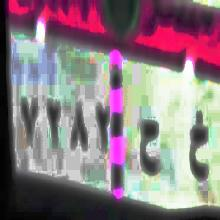2: (44, 88, 64, 163), (92, 104, 113, 158)
7: (20, 90, 39, 150)
7aa: (135, 108, 162, 189)
8: (68, 98, 90, 162)
khaa: (186, 107, 210, 192)
